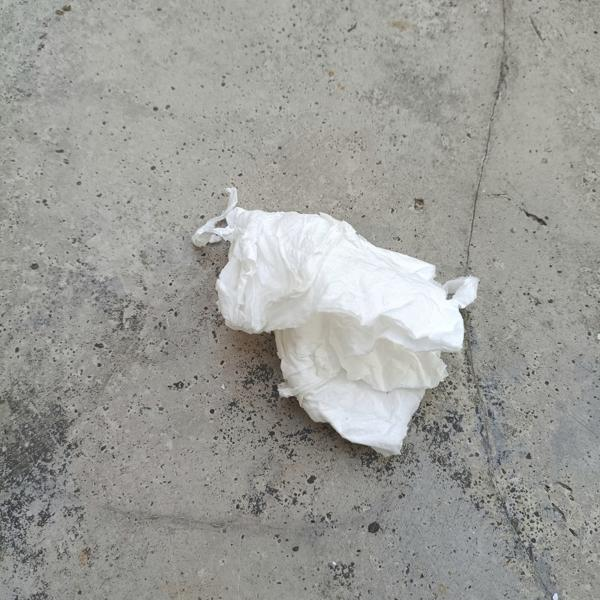Organik: (188, 180, 487, 482)
